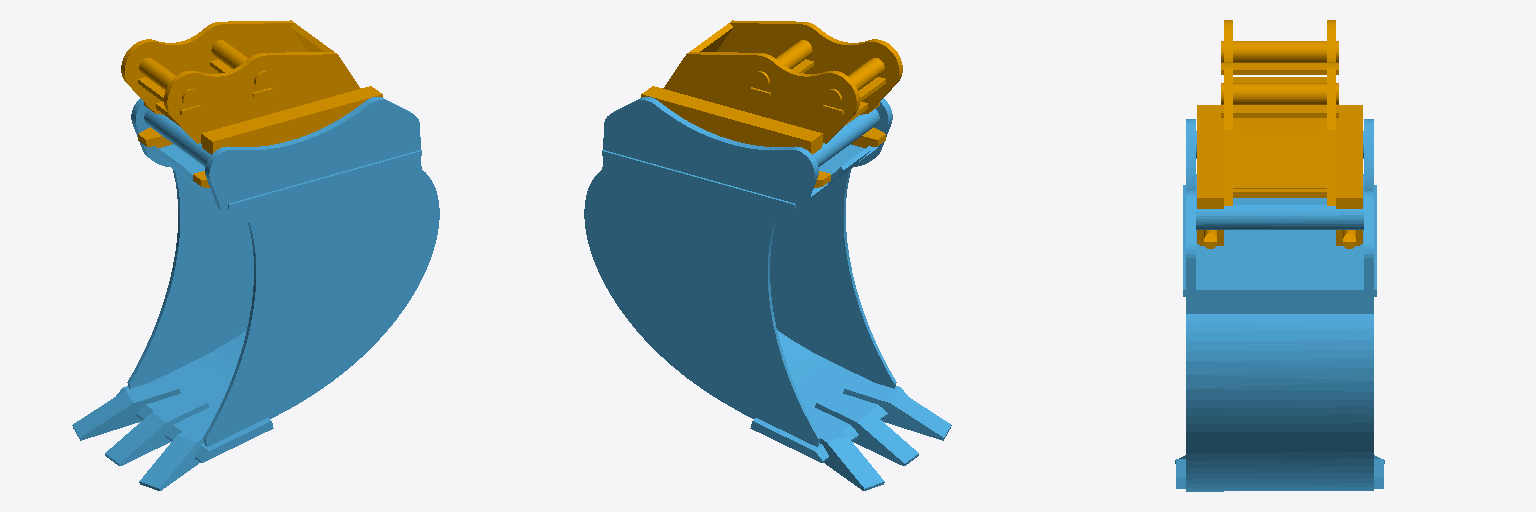
robot.urdf — oilquick_bucket_raedlinger:
<?xml version="1.0" ?>
<!-- Copyright (c) 2017 [author], Karlsruhe, Germany. All rights reserved. -->
<robot name="oilquick_bucket_raedlinger" xmlns:xacro="http://ros.org/wiki/xacro">

  <link name="quickcoupler">
    <inertial>
      <mass value="25"/>
      <inertia ixx="0" ixy="0" ixz="0" iyy="0" iyz="0" izz="0"/>
    </inertial>
    <visual name="visual_quickcoupler">
      <geometry>
        <mesh filename="package://e1_description/meshes/quickcoupler_oq40.dae" scale="1 1 1"/>
      </geometry>
    </visual>
    <collision name="collision_quickcoupler">
      <origin rpy="0 0 0" xyz="0.2 0 -0.1"/>
      <geometry>
	<box size="0.5 0.3 0.3"/>
      </geometry>
    </collision>
  </link>
  <link name="bucket_raedlinger">
    <inertial>
      <mass value="52"/>
      <origin rpy="0  0  0" xyz="-0.081 0 0.27"/>
      <inertia ixx="0" ixy="0" ixz="0" iyy="0" iyz="0" izz="0"/>
    </inertial>
    <visual name="visual_bucket">
      <origin rpy="0 0 0" xyz="0 0.0 0.0"/>
      <geometry>
        <mesh filename="package://e1_description/meshes/bucket_raedlinger.dae" scale="1 1 1"/>
      </geometry>
    </visual>
    <collision name="collision_bucket">
      <origin rpy="0 -0.35 0" xyz="0.15 0.0 -0.25"/>
      <geometry>
	<box size="0.25 0.35 0.5"/>
      </geometry>
    </collision>
    <collision name="collision_bucket_tip">
      <origin rpy="0 -0.25 0" xyz="-0.05 0.0 -0.45"/>
      <geometry>
	<box size="0.3 0.35 0.25"/>
      </geometry>
    </collision>
    <collision name="collision_bucket_underpart">
      <origin rpy="0 -1.1 0" xyz="0.27 0.0 -0.24"/>
      <geometry>
	<box size="0.3 0.35 0.27"/>
      </geometry>
    </collision>
  </link>
  <joint name="quickcoupler_bucket_joint" type="fixed">
    <parent link="quickcoupler"/>
    <child link="bucket_raedlinger"/>
    <origin xyz="0.044405 0.0 -0.126539" rpy="0 -0.034609879 0"/>
    <axis xyz="0 1 0"/>
  </joint>
</robot>

--- Facts derived from the render (not from the file) ---
The picture shows the robot from 3 angles, left to right: view 1: azimuth 30°, elevation 25°; view 2: azimuth 150°, elevation 25°; view 3: azimuth 270°, elevation 25°; orthographic projection.
Robot: oilquick_bucket_raedlinger — 2 links, 1 joints (1 fixed); root link quickcoupler; default pose: all joints at 0.
Links seen in each view (by area): view 1: bucket_raedlinger, quickcoupler; view 2: bucket_raedlinger, quickcoupler; view 3: bucket_raedlinger, quickcoupler.
Link boxes in pixels (x1=…): bucket_raedlinger: x1=72, y1=97, x2=439, y2=490; quickcoupler: x1=121, y1=20, x2=382, y2=187; bucket_raedlinger: x1=584, y1=97, x2=951, y2=490; quickcoupler: x1=641, y1=20, x2=902, y2=187; bucket_raedlinger: x1=1175, y1=119, x2=1384, y2=491; quickcoupler: x1=1197, y1=20, x2=1362, y2=248.
Size in the robot's own frame: 0.5825 by 0.3023 by 0.75 metres.
2 mesh visuals loaded from 2 distinct referenced files (2 Collada DAE).
